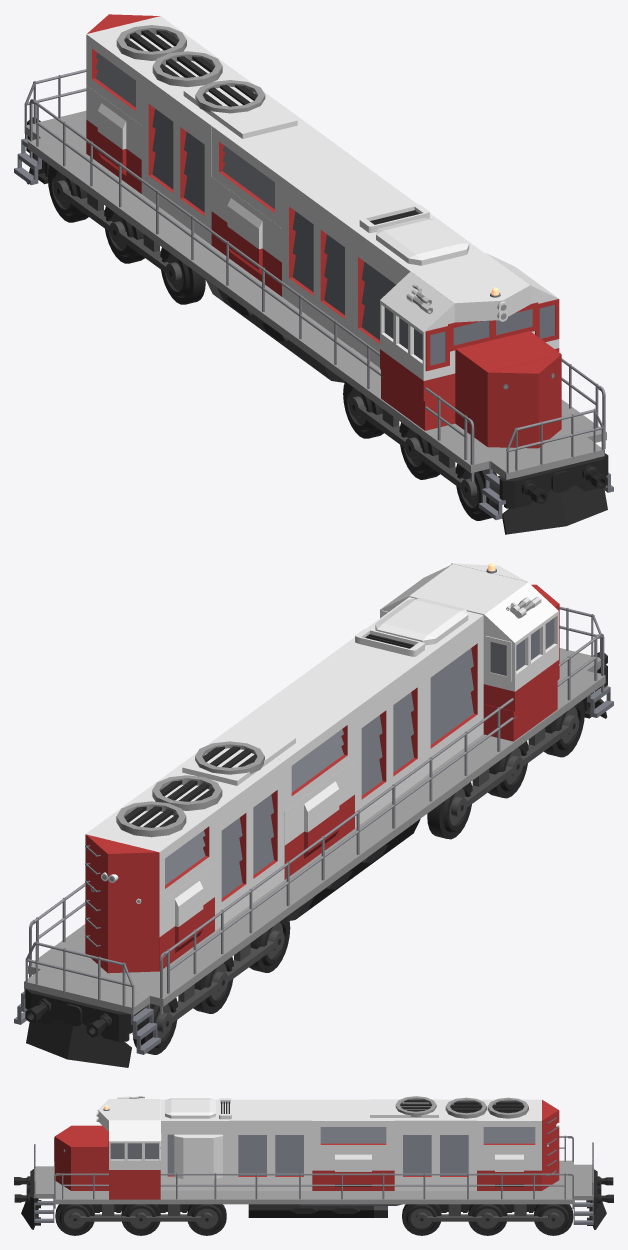
File: train-locomotive-sd40-2.glb
3 renders of one model, top to bottom at view 1: azimuth 30°, elevation 25°; view 2: azimuth 150°, elevation 25°; view 3: azimuth 270°, elevation 25°, orthographic. The views are drawn at different scales.
Visible parts, largest first — view 1: block (×7), body_vents (×2), body_vent (×3), body_detail (×2), roof (×2), wheel_medium (×6), grate_round (×3), bogie_frame_connection (×4), 02 Bus Middle 01, window_small (×4), 02 Car Bumper 02, block_bevel (+5 smaller); view 2: block (×5), body_vents (×2), body_vent (×3), roof, body_detail (×2), wheel_medium (×6), grate_round (×3), bogie_frame_connection (×4), 02 Bus Middle 01, 02 Car Bumper 02, block_bevel, attachment_barrelThin (×2) (+5 smaller); view 3: block (×7), body_vents (×2), body_vent (×3), body_detail (×2), wheel_medium (×6), bogie_frame_connection (×4), roof (×3), attachment_barrelThin (×2), diesel_front_basic, 02 Bus Middle 01, grate_round (×3), steam_engine_round (+5 smaller).
Boxes of the visible parts, left/top/right/bottom form: block (×7): left=24, top=77, right=606, bottom=479; body_vents (×2): left=141, top=56, right=418, bottom=347; body_vent (×3): left=86, top=16, right=484, bottom=367; body_detail (×2): left=86, top=85, right=281, bottom=296; roof (×2): left=454, top=284, right=561, bottom=448; wheel_medium (×6): left=48, top=165, right=502, bottom=520; grate_round (×3): left=116, top=25, right=265, bottom=113; bogie_frame_connection (×4): left=53, top=180, right=477, bottom=499; 02 Bus Middle 01: left=380, top=300, right=559, bottom=400; window_small (×4): left=425, top=299, right=559, bottom=371; 02 Car Bumper 02: left=502, top=485, right=607, bottom=534; block_bevel: left=376, top=217, right=469, bottom=265; block (×5): left=24, top=564, right=605, bottom=1015; body_vents (×2): left=141, top=640, right=424, bottom=930; body_vent (×3): left=85, top=597, right=483, bottom=902; roof: left=85, top=834, right=159, bottom=973; body_detail (×2): left=85, top=760, right=354, bottom=971; wheel_medium (×6): left=132, top=700, right=584, bottom=1054; grate_round (×3): left=116, top=741, right=264, bottom=837; bogie_frame_connection (×4): left=156, top=714, right=579, bottom=1033; 02 Bus Middle 01: left=380, top=610, right=558, bottom=711; 02 Car Bumper 02: left=26, top=1019, right=131, bottom=1067; block_bevel: left=375, top=598, right=468, bottom=645; attachment_barrelThin (×2): left=164, top=698, right=517, bottom=970; block (×7): left=34, top=1099, right=593, bottom=1204; body_vents (×2): left=230, top=1099, right=476, bottom=1190; body_vent (×3): left=161, top=1099, right=541, bottom=1190; body_detail (×2): left=312, top=1151, right=541, bottom=1190; wheel_medium (×6): left=55, top=1204, right=573, bottom=1235; bogie_frame_connection (×4): left=69, top=1204, right=559, bottom=1224; roof (×3): left=54, top=1099, right=559, bottom=1190; attachment_barrelThin (×2): left=160, top=1173, right=567, bottom=1186; diesel_front_basic: left=174, top=1134, right=222, bottom=1178; 02 Bus Middle 01: left=109, top=1141, right=160, bottom=1181; grate_round (×3): left=395, top=1096, right=528, bottom=1118; steam_engine_round: left=248, top=1204, right=387, bottom=1217.
Bounding box in the file's own units: 2.8 × 3.92 × 18.22.
